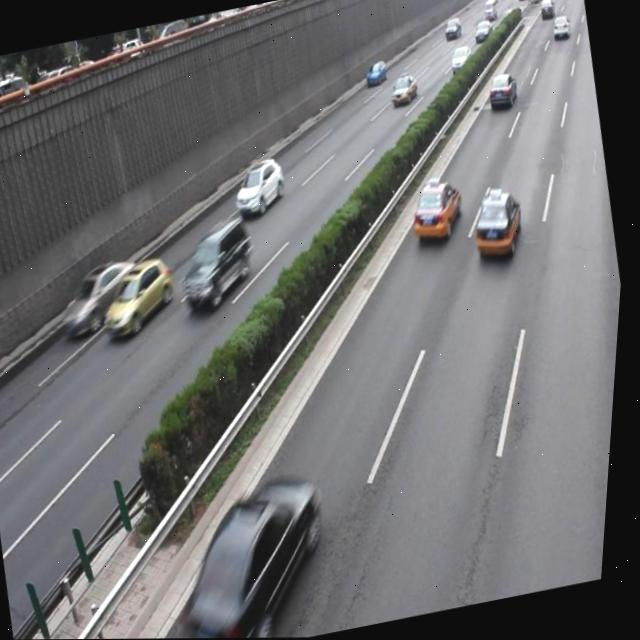car: (166, 468, 348, 639), (173, 213, 265, 314), (55, 253, 152, 339), (96, 254, 186, 340), (466, 185, 532, 265), (409, 174, 470, 245), (231, 154, 293, 218)
